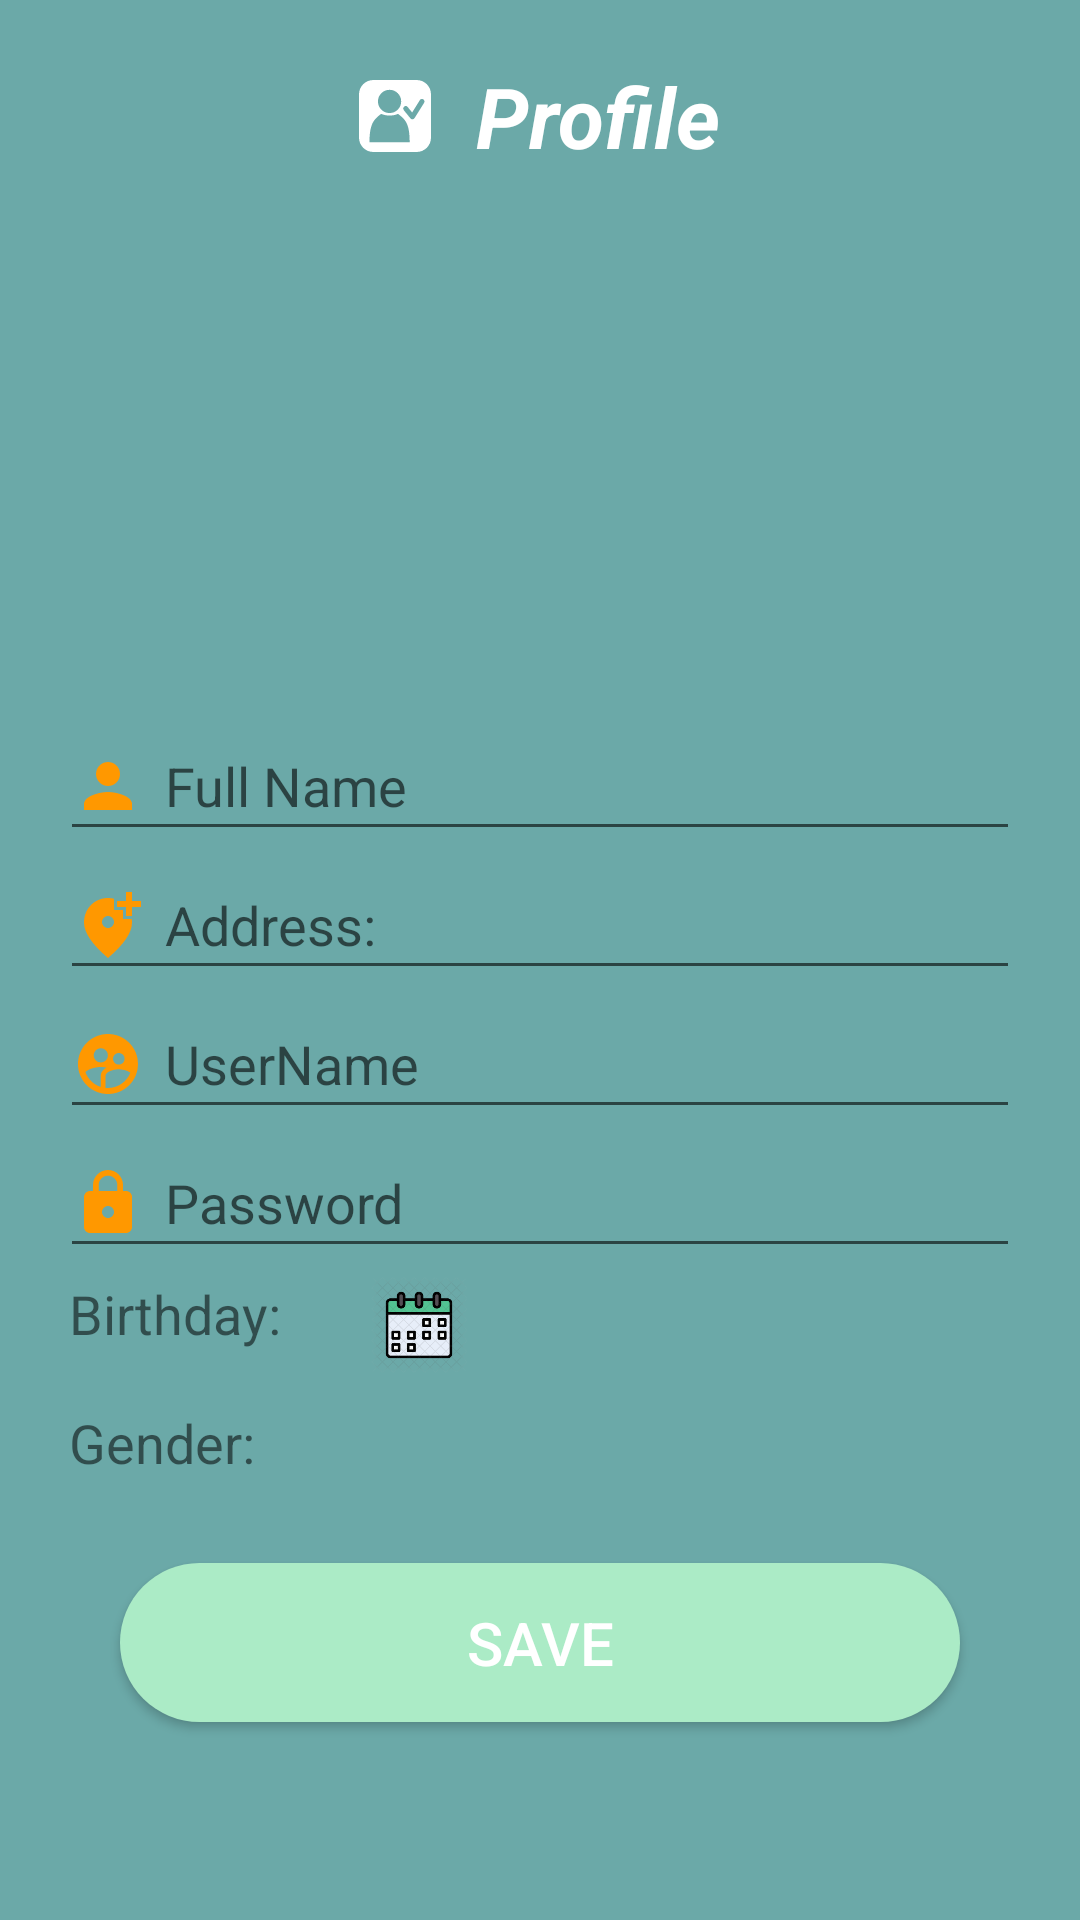

Icon bounding boxes for this 1080px x 1920px phone screenshot, format [left=x1, top=y1, right=x2, bottom=y2]:
calendar: [left=385, top=1292, right=453, bottom=1359]
